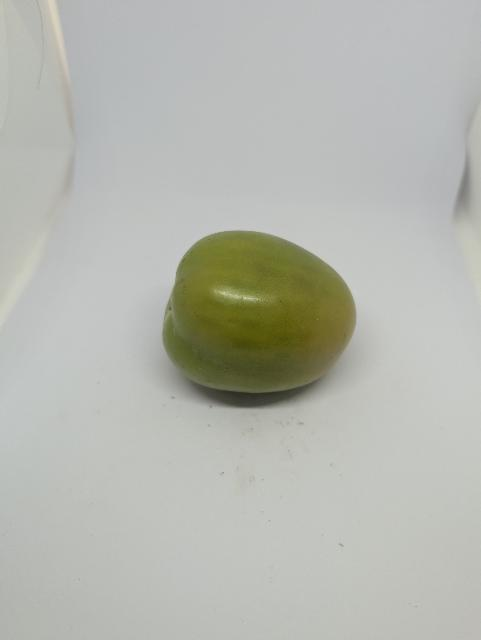green: (147, 207, 384, 426)
